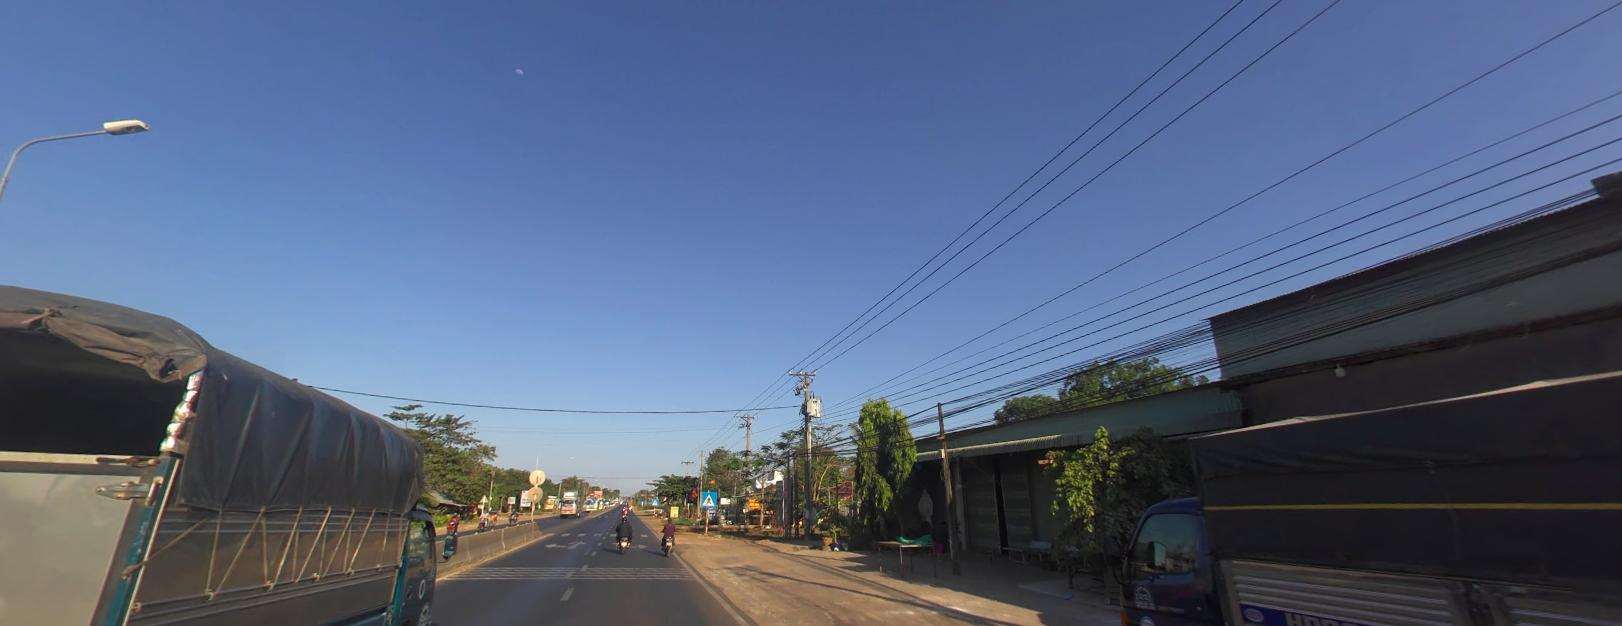Cam nguoc chieu: (589, 490, 594, 496)
Hieu lenh: (588, 496, 594, 502)
